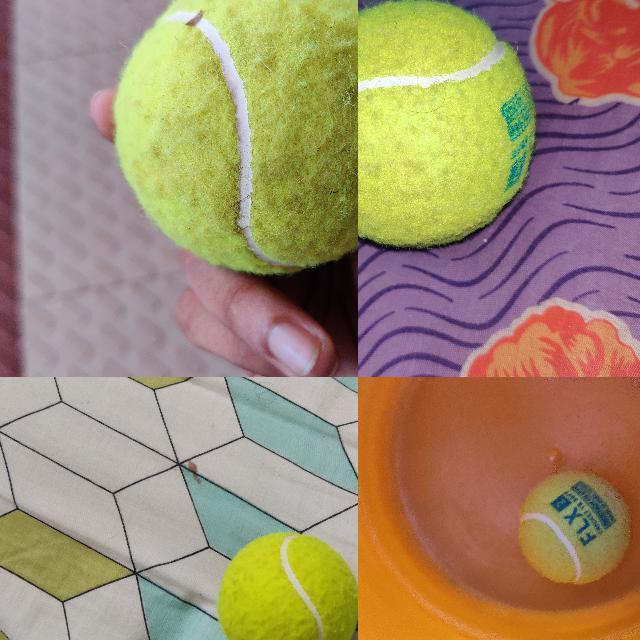tennis-ball: (110, 0, 357, 274), (358, 0, 539, 249), (218, 530, 357, 639), (518, 471, 630, 584)
